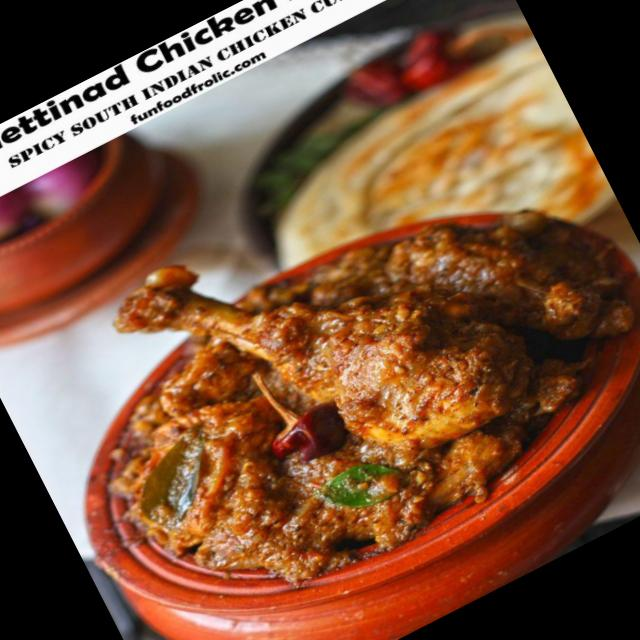chicken: (71, 129, 640, 640)
